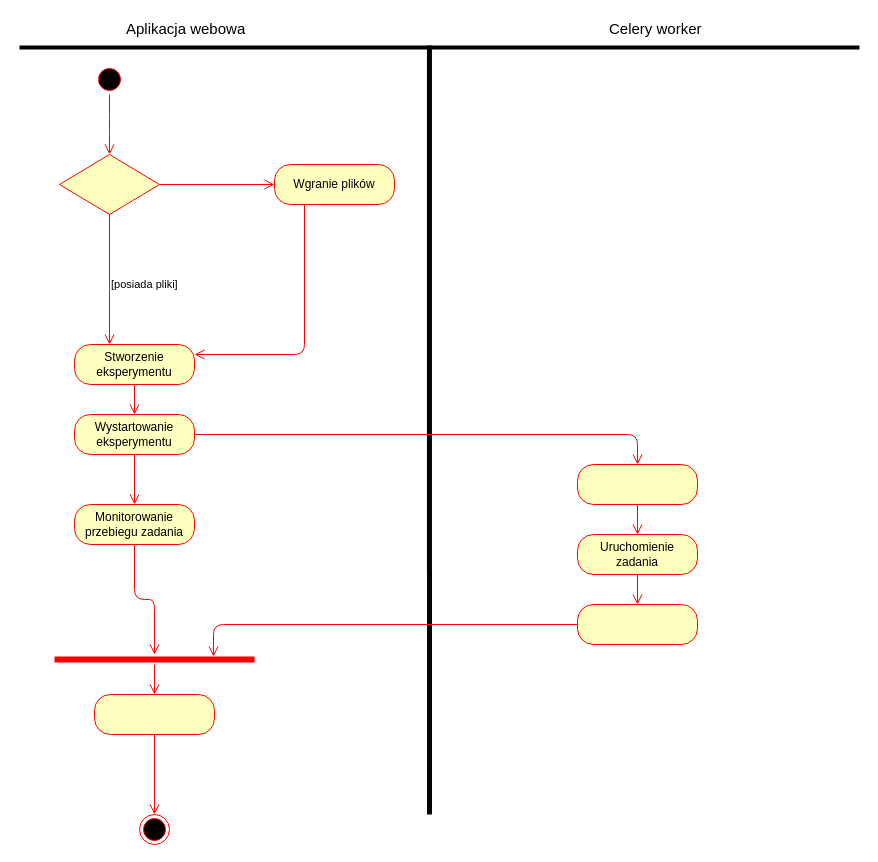
Image size: 878x862. Some labels were removed from this diagram. The shapes that lost their labels are listed below. From the top down, each one's centre as x and y in pixels, then its label:
At point 637,484: "Dodanie zadania do kolejki".
At point 637,624: "Zakończenie zadania".
At point 154,714: "Wyświetlenie wyników".
